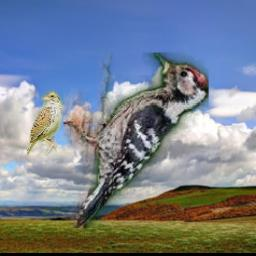Sparrow: (28, 89, 63, 157)
Woodpecker: (65, 54, 210, 229)
